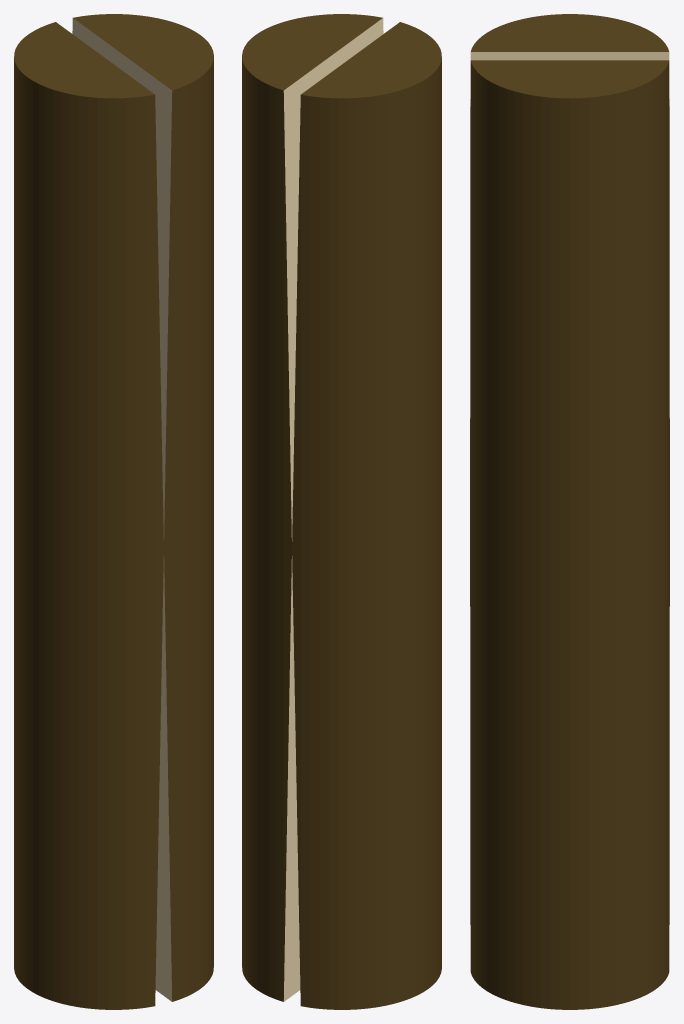
File: Target_1.fbx
3 renders of one model, left to right at view 1: azimuth 30°, elevation 25°; view 2: azimuth 150°, elevation 25°; view 3: azimuth 270°, elevation 25°, orthographic.
Parts seen in each view (by area): view 1: Target_1; view 2: Target_1; view 3: Target_1.
Part boxes in pixels (x1,y1,x2,y2): Target_1: (14,14,213,1009); Target_1: (242,14,441,1009); Target_1: (470,14,669,1009).
Bounding box in the file's own units: 39.74 × 200 × 39.74.
Materials: 1 (1 with a texture image).
